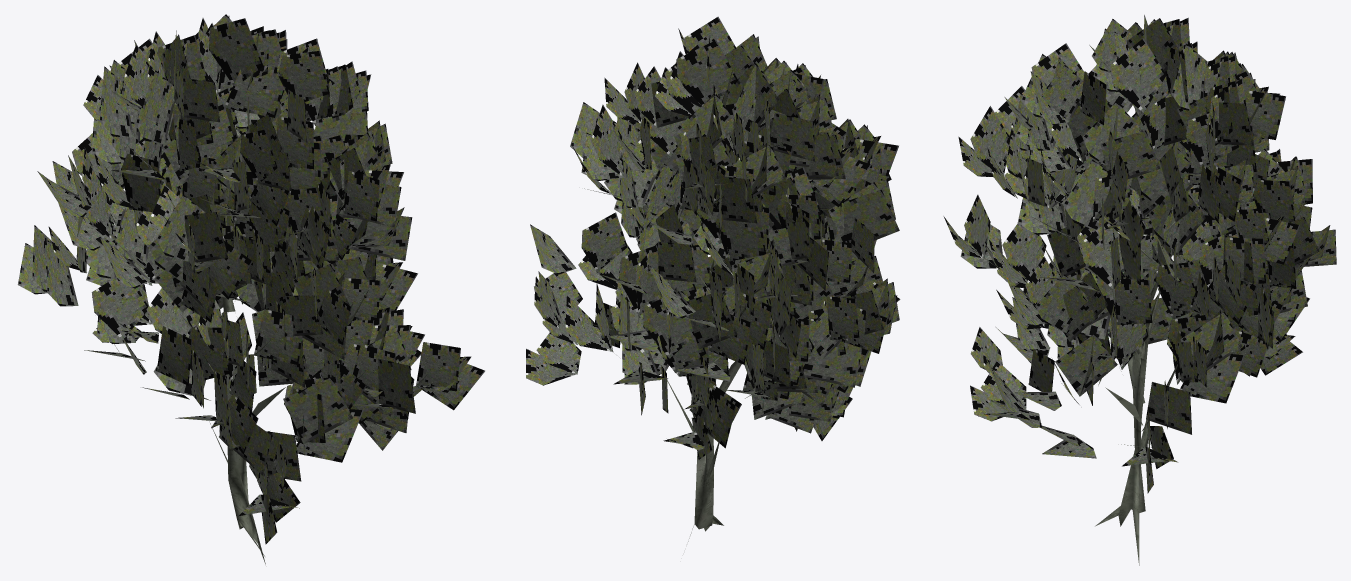
File: temperate-beech-a-mid.glb
3 renders of one model, left to right at view 1: azimuth 30°, elevation 25°; view 2: azimuth 150°, elevation 25°; view 3: azimuth 270°, elevation 25°, orthographic. The views are drawn at different scales.
Parts seen in each view (by area): view 1: american_beech_a_LOD0; view 2: american_beech_a_LOD0; view 3: american_beech_a_LOD0.
Part boxes in pixels (x1,y1,x2,y2): american_beech_a_LOD0: (17, 14, 484, 564); american_beech_a_LOD0: (526, 16, 900, 541); american_beech_a_LOD0: (943, 15, 1336, 565).
Size of the model in its own units: 13.61 by 19.76 by 13.94.
1 material, 1 textured.
